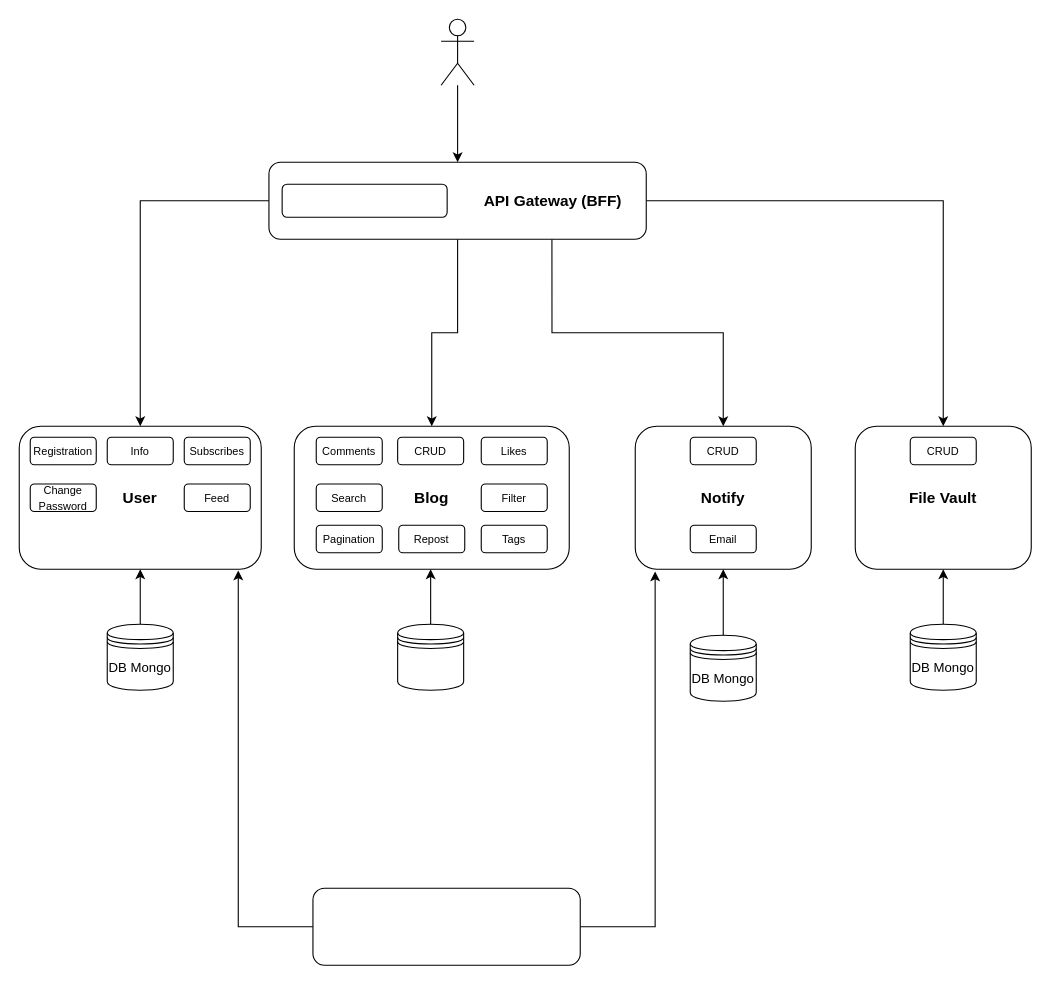
Some shapes in this 1051 by 985 pixel diagram are drawn without their labels. Here are the shapes that lost their labels. From the top down, the centre of each, then its label:
pixel 457 51: Client
pixel 364 200: Authentication/ Authorization
pixel 430 656: DB PG
pixel 446 926: RabbitMQ
